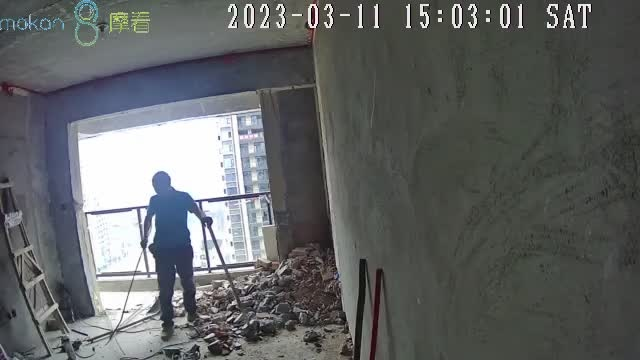people: (140, 172, 213, 339)
window: (77, 106, 276, 274)
